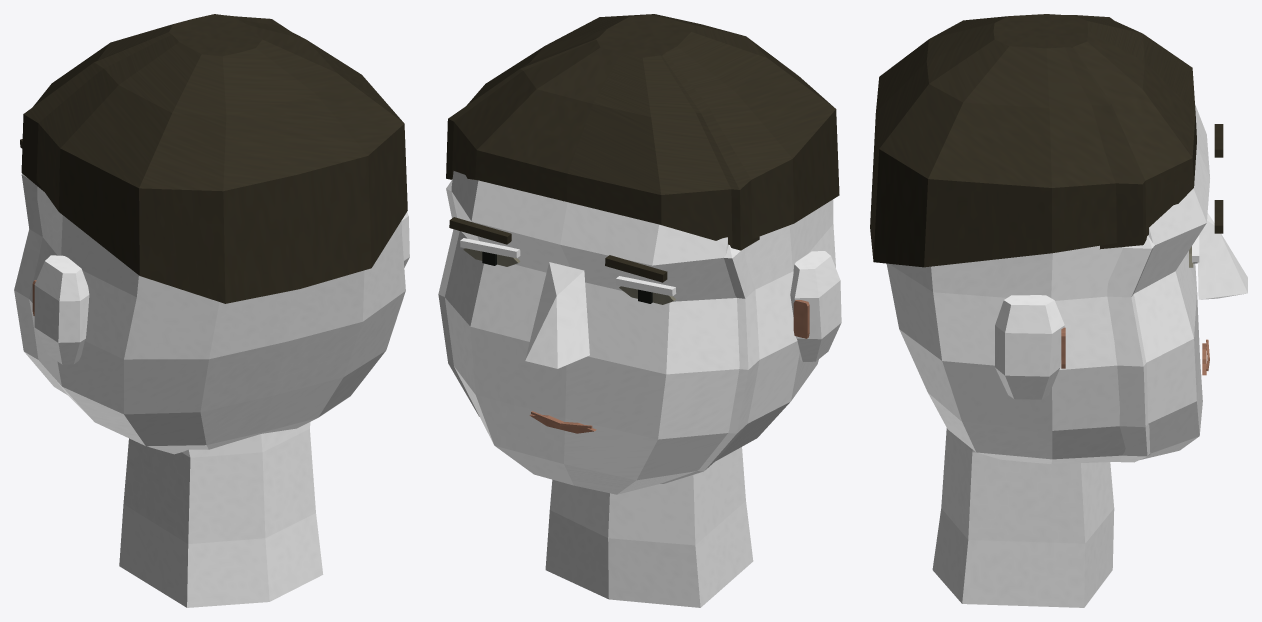
The picture shows the model from 3 angles, left to right: view 1: azimuth 30°, elevation 25°; view 2: azimuth 150°, elevation 25°; view 3: azimuth 270°, elevation 25°; orthographic projection. The views are drawn at different scales.
Parts seen in each view (by area): view 1: face_10_head_LOD0_RAID_skin.001, face_10_head_LOD0_RAID_hair2.001, face_10_head_LOD1_RAID_hair2.001, face_10_head_LOD1_RAID_skin.001; view 2: face_10_head_LOD0_RAID_skin.001, face_10_head_LOD0_RAID_hair2.001, face_10_head_LOD1_RAID_hair2.001, face_10_head_LOD1_RAID_skin.001, face_10_head_LOD0_RAID_lip.001, face_10_head_LOD0_RAID_eye.001; view 3: face_10_head_LOD0_RAID_skin.001, face_10_head_LOD0_RAID_hair2.001, face_10_head_LOD1_RAID_skin.001, face_10_head_LOD1_RAID_hair2.001.
Boxes of the visible parts, x1,y1,x2,y2 form: face_10_head_LOD0_RAID_skin.001: (29, 186, 409, 607); face_10_head_LOD0_RAID_hair2.001: (20, 14, 407, 303); face_10_head_LOD1_RAID_hair2.001: (21, 16, 289, 191); face_10_head_LOD1_RAID_skin.001: (14, 173, 67, 394); face_10_head_LOD0_RAID_skin.001: (444, 171, 841, 607); face_10_head_LOD0_RAID_hair2.001: (449, 14, 839, 282); face_10_head_LOD1_RAID_hair2.001: (446, 17, 759, 250); face_10_head_LOD1_RAID_skin.001: (438, 179, 759, 483); face_10_head_LOD0_RAID_lip.001: (529, 300, 809, 433); face_10_head_LOD0_RAID_eye.001: (463, 248, 675, 304); face_10_head_LOD0_RAID_skin.001: (886, 104, 1247, 607); face_10_head_LOD0_RAID_hair2.001: (870, 14, 1223, 267); face_10_head_LOD1_RAID_skin.001: (1107, 236, 1154, 462); face_10_head_LOD1_RAID_hair2.001: (995, 15, 1146, 249).
Bounding box in the file's own units: 0.2884 × 0.409 × 0.26.
Materials: 5 (5 with a texture image).
